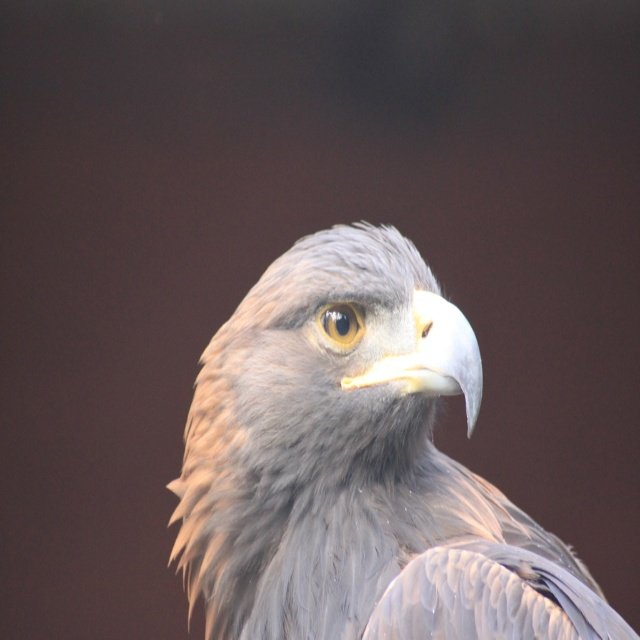Eagle: (168, 218, 640, 639)
